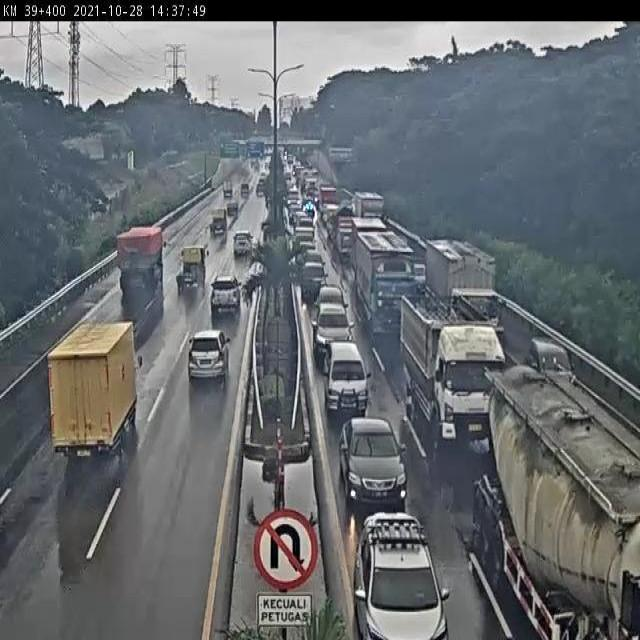big truck: (489, 341, 640, 640), (394, 291, 514, 457), (45, 298, 154, 458), (414, 218, 508, 334), (358, 227, 425, 333), (110, 207, 173, 297), (346, 180, 397, 232)
car: (352, 508, 463, 640), (335, 414, 415, 534), (324, 337, 396, 431), (311, 296, 369, 363), (186, 320, 234, 395), (531, 323, 578, 393), (201, 270, 251, 330), (232, 227, 265, 273), (302, 263, 340, 300), (319, 283, 356, 320), (301, 247, 328, 270), (292, 221, 318, 244), (295, 237, 323, 255), (230, 200, 242, 219), (242, 180, 254, 193)
small truck: (180, 241, 215, 295), (208, 207, 238, 241), (219, 179, 239, 200)
